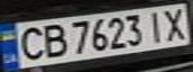2: (106, 13, 130, 51)
3: (124, 11, 148, 47)
6: (87, 16, 112, 52)
7: (66, 18, 93, 55)
B: (36, 21, 69, 60)
C: (12, 24, 48, 62)
I: (142, 8, 169, 43)
X: (157, 6, 193, 42)
